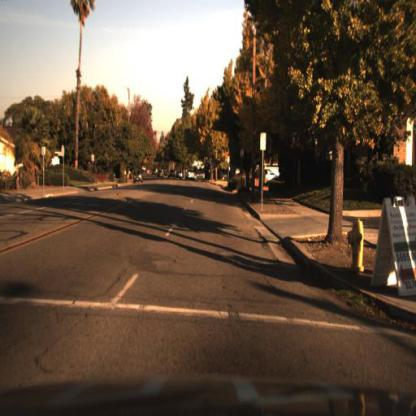car: (133, 166, 145, 184), (185, 168, 197, 184)
